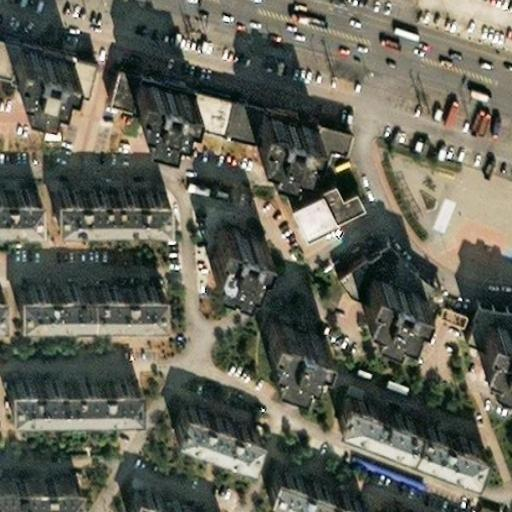building: (96, 56, 335, 147), (328, 379, 475, 460), (323, 230, 426, 311), (259, 460, 358, 512), (0, 28, 83, 84), (166, 392, 251, 446), (10, 273, 154, 304), (273, 172, 350, 224), (3, 368, 130, 399), (348, 450, 432, 496), (257, 309, 318, 368), (47, 177, 159, 209), (241, 97, 302, 155), (351, 260, 413, 317), (120, 67, 181, 121), (198, 214, 253, 272), (3, 36, 61, 90), (119, 480, 215, 512), (466, 303, 512, 362), (455, 293, 512, 331), (0, 458, 69, 488), (0, 178, 31, 207)
